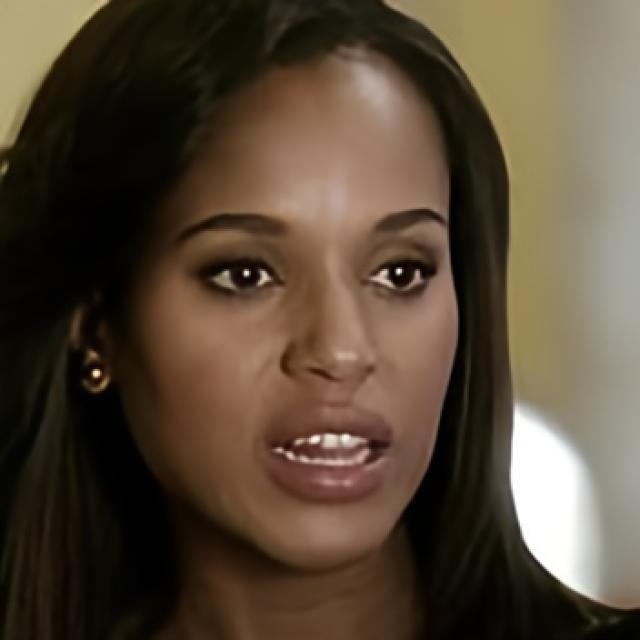surprise: (128, 42, 464, 574)
